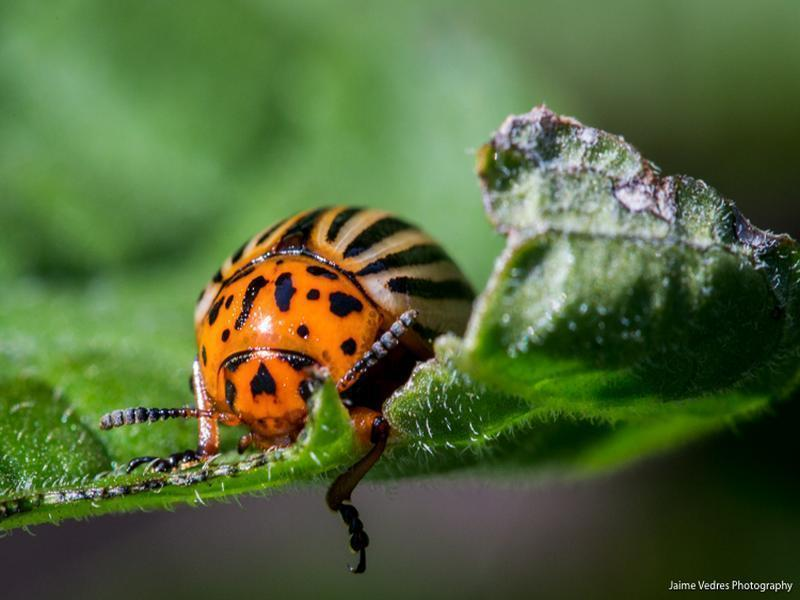hrosc: (178, 196, 480, 468)
